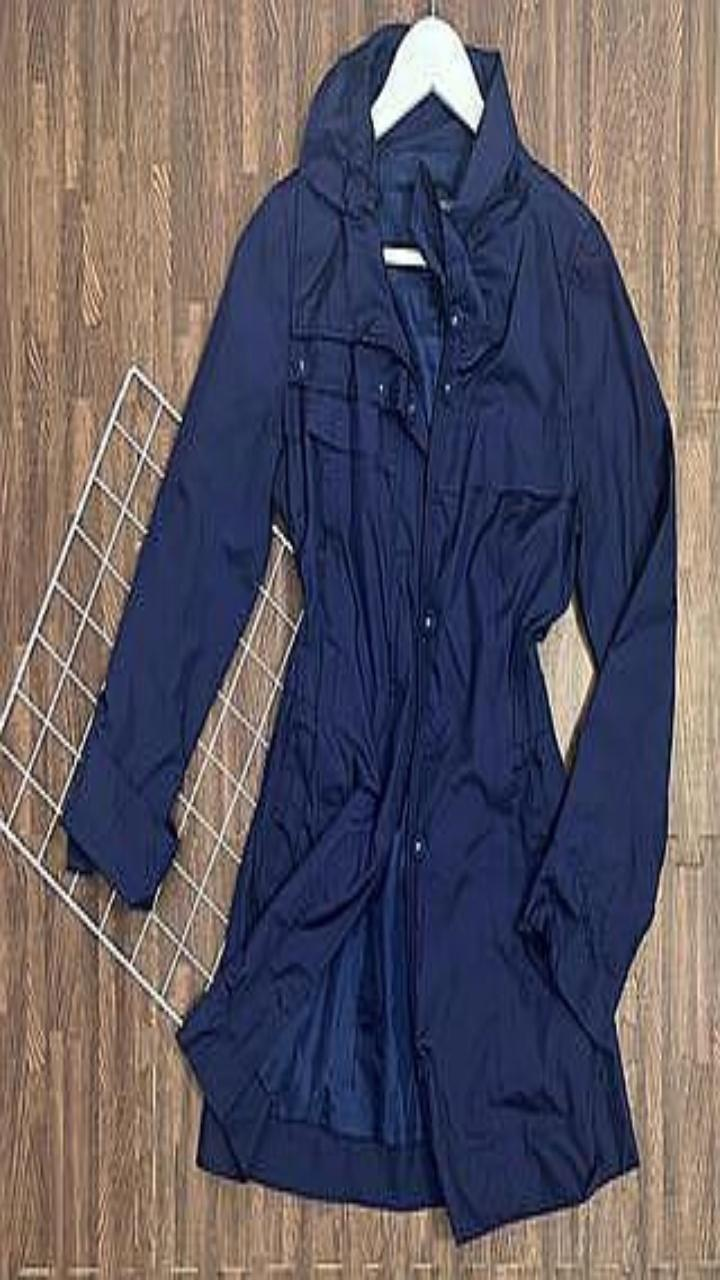Sports_Jacket: (62, 22, 676, 1242)
